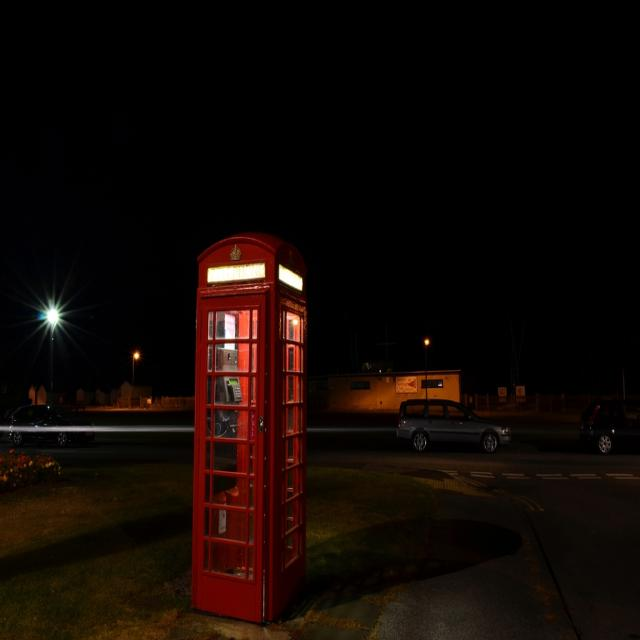car: (397, 398, 512, 454)
